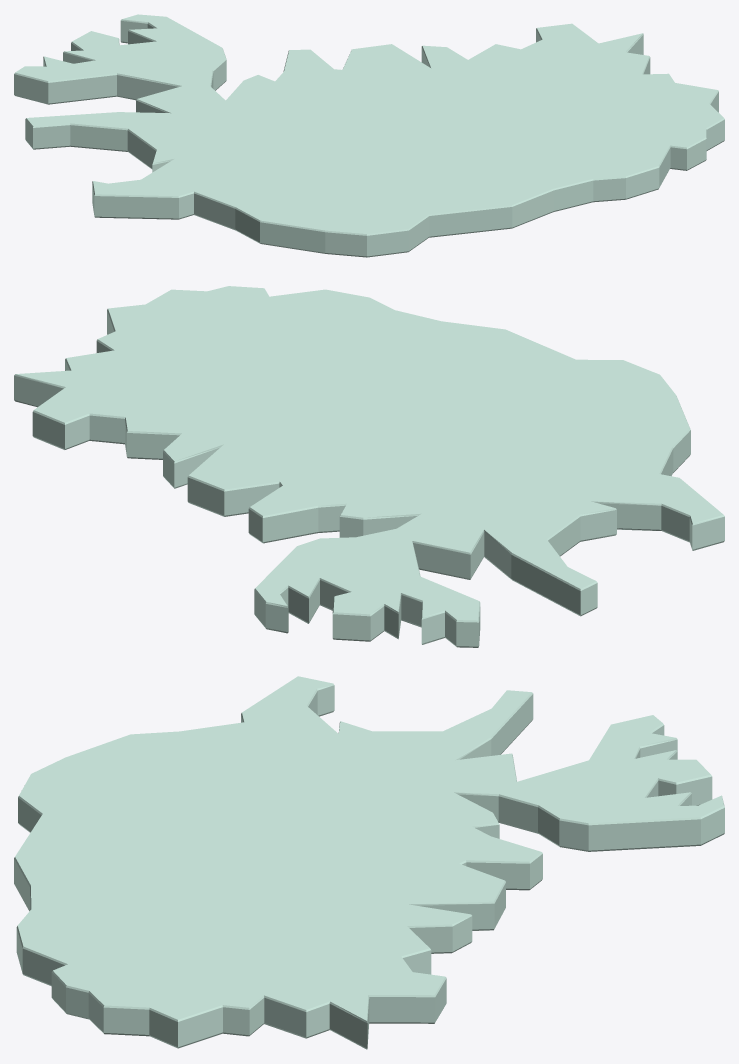
File: ISL.glb
The picture shows the model from 3 angles, top to bottom: view 1: azimuth 30°, elevation 25°; view 2: azimuth 150°, elevation 25°; view 3: azimuth 270°, elevation 25°; orthographic projection. The views are drawn at different scales.
Size of the model in its own units: 1.76 by 0.068 by 1.53.
